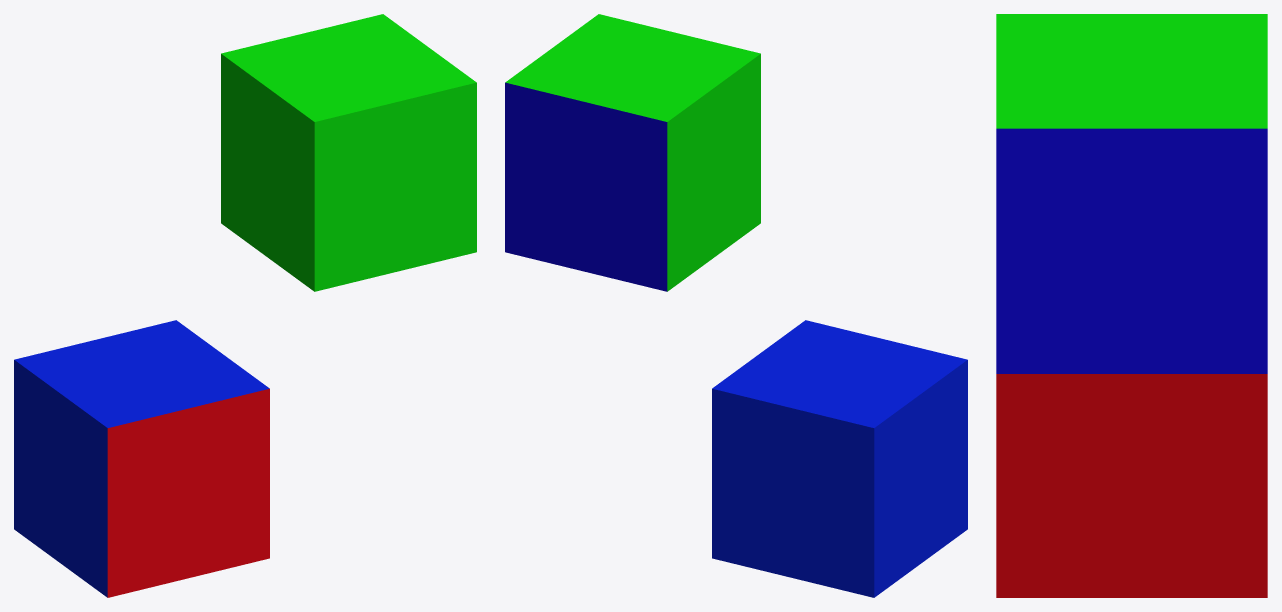
Rendered from TestBox.fbx.
The picture shows the model from 3 angles, left to right: view 1: azimuth 30°, elevation 25°; view 2: azimuth 150°, elevation 25°; view 3: azimuth 270°, elevation 25°; orthographic projection. The views are drawn at different scales.
Parts seen in each view (by area): view 1: Box1, Box2; view 2: Box1, Box2; view 3: Box2, Box1.
Boxes of the visible parts, <box> form: Box1: <box>14,320,269,597</box>; Box2: <box>221,14,476,291</box>; Box1: <box>712,320,967,597</box>; Box2: <box>505,14,760,291</box>; Box2: <box>996,14,1267,373</box>; Box1: <box>996,374,1267,597</box>.
Bounding box in the file's own units: 455 × 501 × 200.
